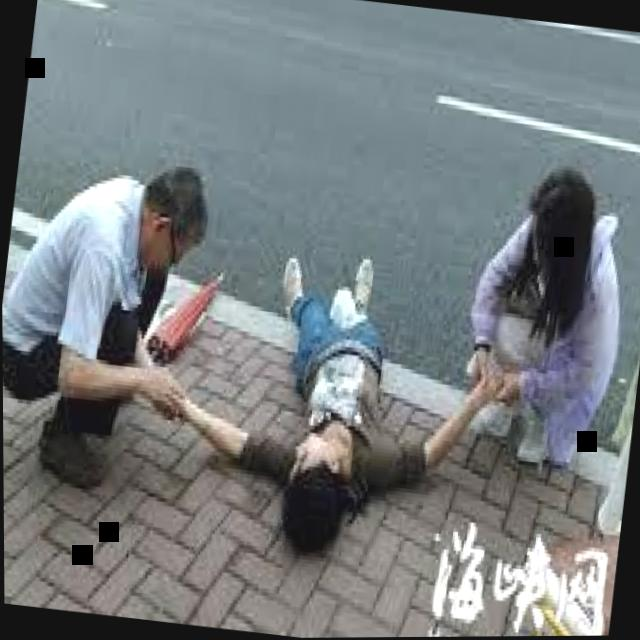Fall-Detected: (168, 206, 509, 573)
